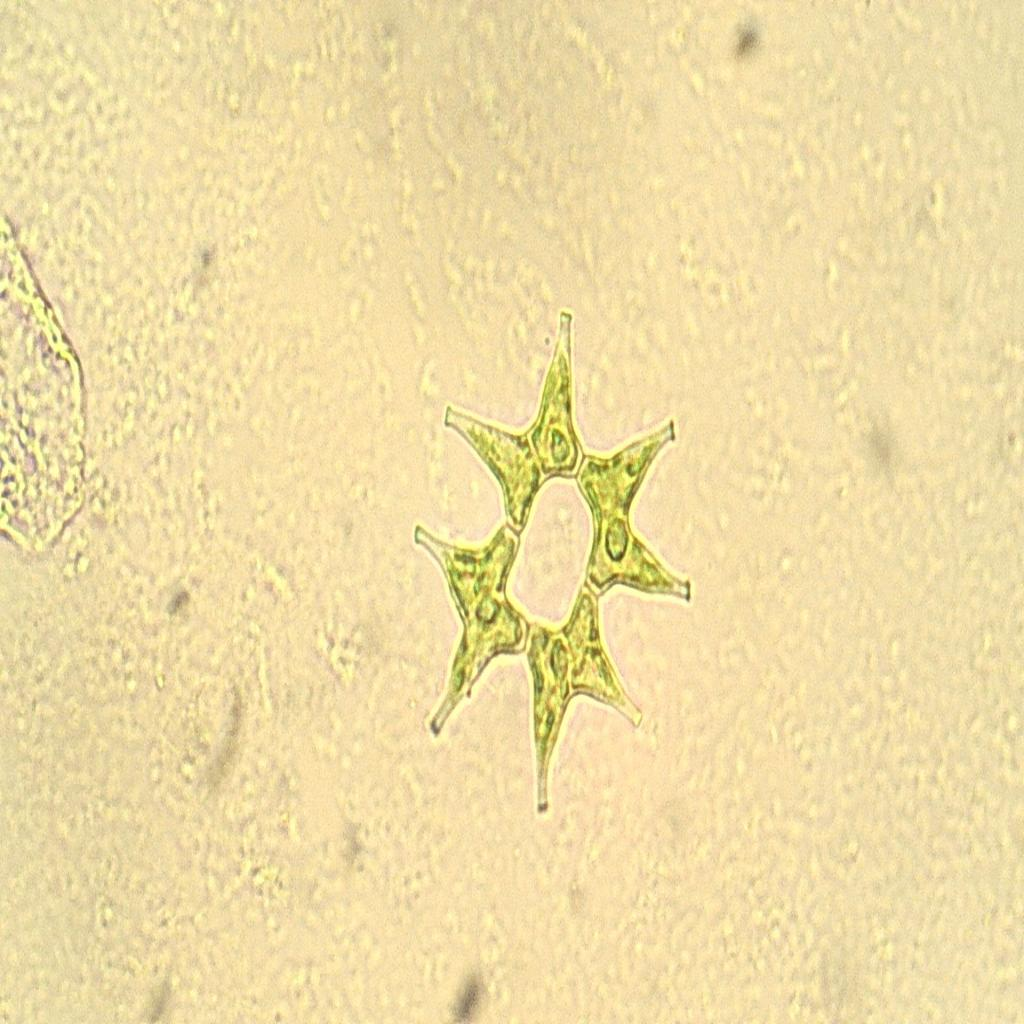Pediastrum_CO: (411, 286, 711, 842)
